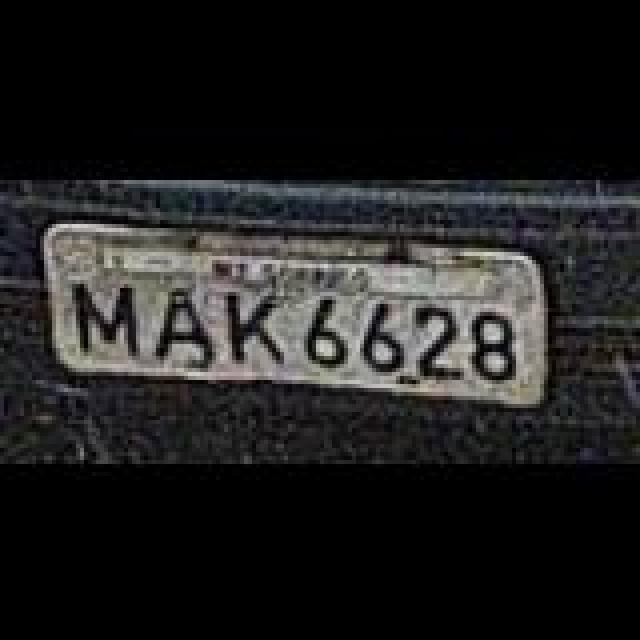2: (416, 302, 464, 378)
6: (298, 292, 350, 364), (360, 300, 408, 372)
8: (472, 308, 520, 380)
A: (156, 286, 212, 362)
K: (224, 292, 288, 364)
M: (70, 280, 138, 352)
